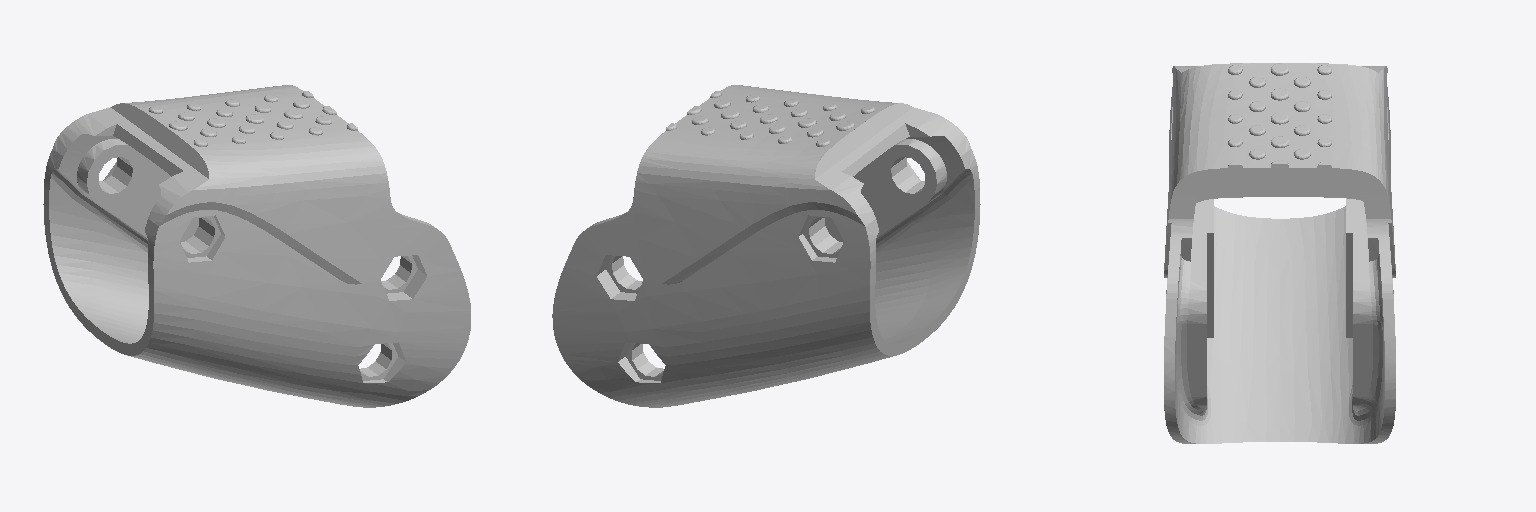
Rendered from left_thumb_3_collisions.obj.
The picture shows the model from 3 angles: view 1: azimuth 30°, elevation 25°; view 2: azimuth 150°, elevation 25°; view 3: azimuth 270°, elevation 25°; orthographic projection.
Bounding box in the file's own units: 0.0325 × 0.03 × 0.0209.